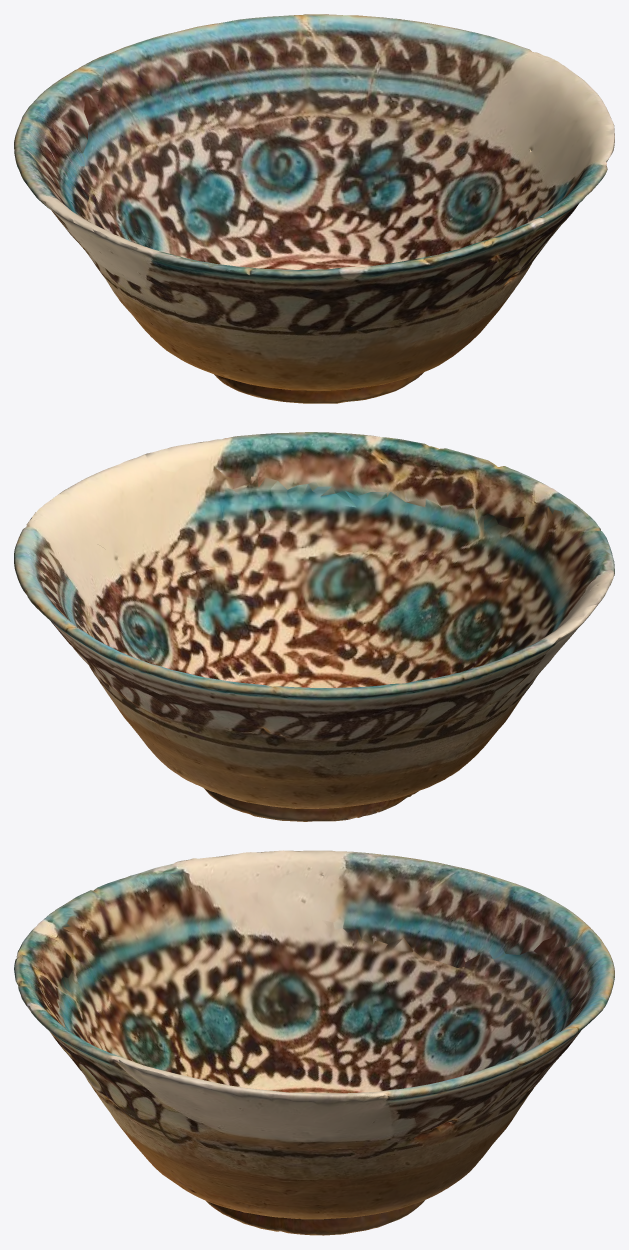
Rendered from kese.glb.
The picture shows the model from 3 angles, top to bottom: view 1: azimuth 30°, elevation 25°; view 2: azimuth 150°, elevation 25°; view 3: azimuth 270°, elevation 25°; orthographic projection.
Visible parts, largest first — view 1: Polygon Reduction; view 2: Polygon Reduction; view 3: Polygon Reduction.
Boxes of the visible parts, x1=… form: Polygon Reduction: x1=14, y1=14, x2=614, y2=403; Polygon Reduction: x1=14, y1=432, x2=614, y2=821; Polygon Reduction: x1=14, y1=850, x2=614, y2=1235.
Bounding box in the file's own units: 226 × 92.3 × 226.
Materials: 1 (1 with a texture image).
